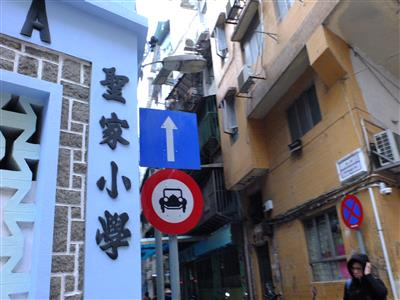noMotorVehicles: (137, 167, 206, 235)
noStopping: (335, 191, 366, 230)
oneway: (134, 101, 204, 171)
